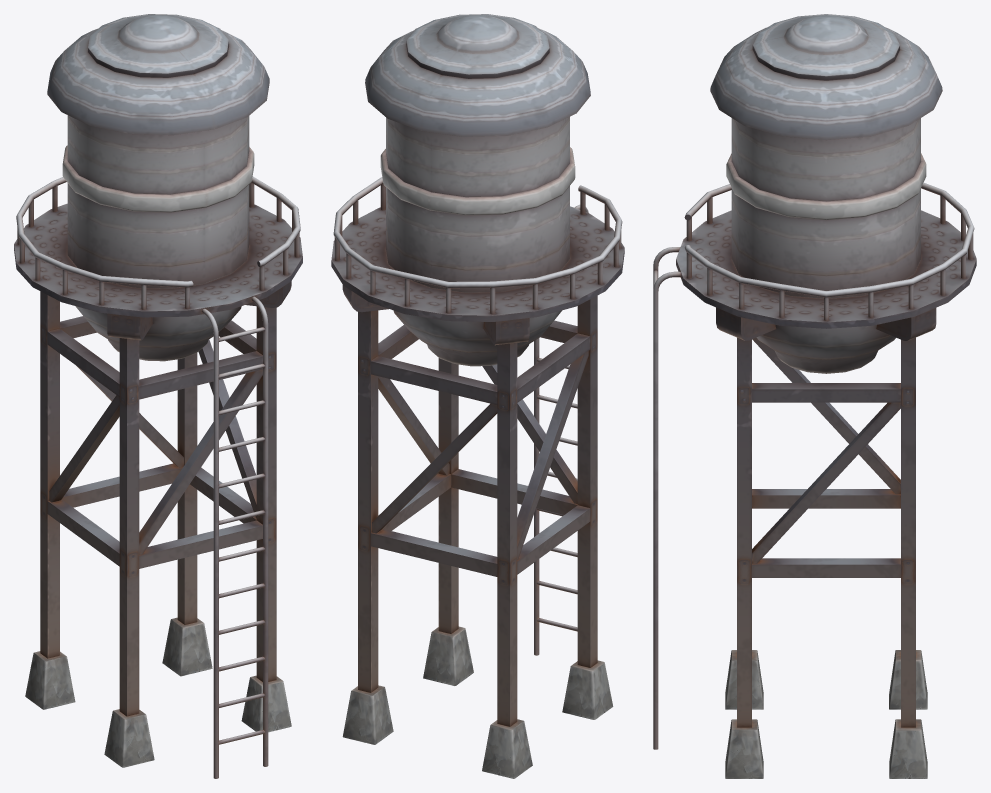
The model's file is StorageTank03.FBX.
3 renders of one model, left to right at view 1: azimuth 30°, elevation 25°; view 2: azimuth 150°, elevation 25°; view 3: azimuth 270°, elevation 25°, orthographic. The views are drawn at different scales.
Visible parts, largest first — view 1: StorageTank03; view 2: StorageTank03; view 3: StorageTank03.
Part boxes in pixels (<box>): StorageTank03: <box>14,14,302,778</box>; StorageTank03: <box>331,14,624,778</box>; StorageTank03: <box>653,14,976,778</box>.
Size of what is drawn, in the model's own units: 3.76 by 9.85 by 4.05.
